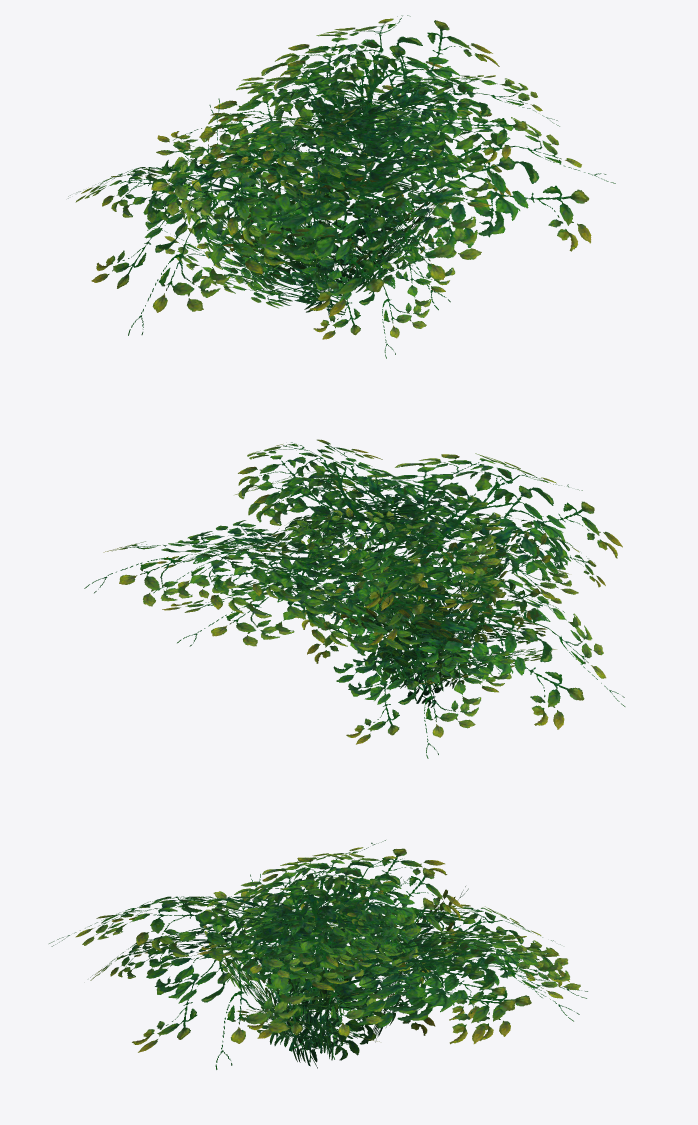
The model's file is guanmu_021.FBX.
3 views of the same model, one above another, from view 1: azimuth 30°, elevation 25°; view 2: azimuth 150°, elevation 25°; view 3: azimuth 270°, elevation 25° (orthographic). The views are drawn at different scales.
Visible parts, largest first — view 1: guanmu_020_02; view 2: guanmu_020_02; view 3: guanmu_020_02.
Part boxes in pixels (box(x1,y1,x2,y2)): guanmu_020_02: box(68, 15, 615, 358); guanmu_020_02: box(84, 439, 625, 758); guanmu_020_02: box(49, 840, 587, 1069).
Bounding box in the file's own units: 1.23 × 0.4877 × 1.33.
